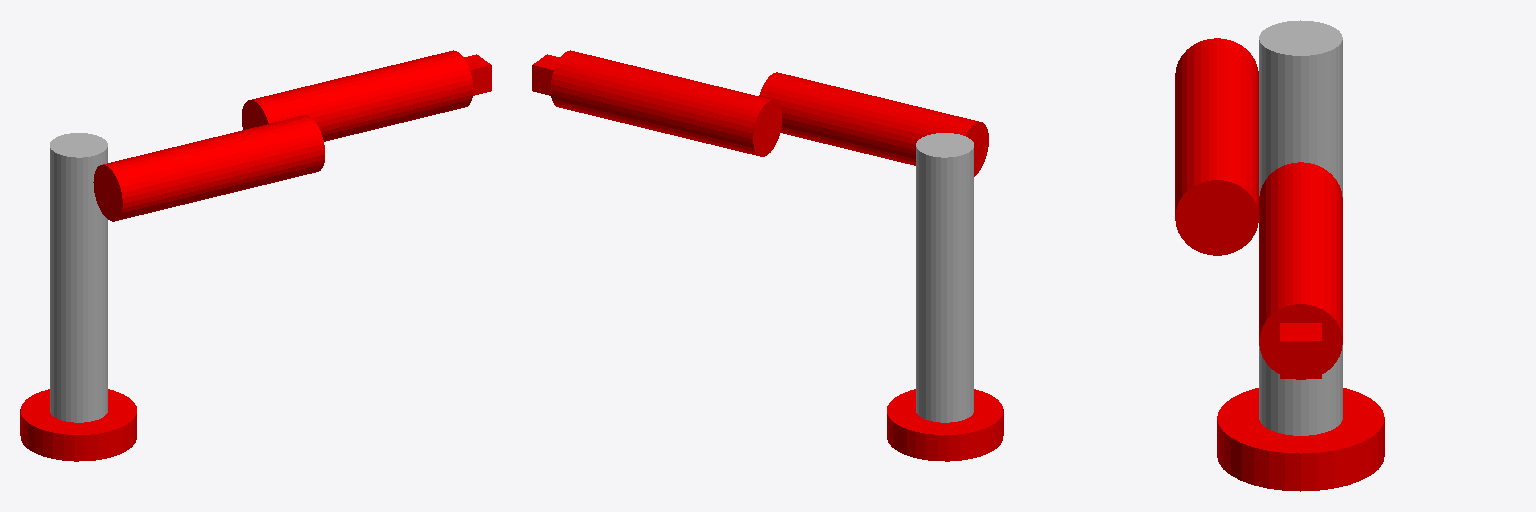
URDF robot description (bazu):
<?xml version="1.0" ?>
<robot name="bazu" xmlns:xacro="http://ros.org/wiki/xacro">
    <link name="world" />
    <link name="base_link">
        <inertial>
            <origin xyz="0.0 0.0 0.025" rpy="0.0 0.0 0.0" />
            <mass value="5.0" />
            <inertia ixx="0.0135" ixy="0.0" ixz="0.0" iyy="0.0135" iyz="0.0" izz="0.025" />
        </inertial>
        <visual>
            <origin xyz="0.0 0.0 0.025" rpy="0.0 0.0 0.0" />
            <geometry>
                <cylinder radius="0.1" length="0.05" />
            </geometry>
            <material name="">
                <color rgba="1.0 0.0 0.0 1.0" />
            </material>
        </visual>
        <collision>
            <origin xyz="0.0 0.0 0.025" rpy="0.0 0.0 0.0" />
            <geometry>
                <cylinder radius="0.1" length="0.05" />
            </geometry>
        </collision>
    </link>
    <joint name="joint_base" type="fixed">
        <origin xyz="0.0 0.0 0.0" rpy="0.0 0.0 0.0" />
        <parent link="world" />
        <child link="base_link" />
        <axis xyz="0.0 0.0 0.0" />
        <limit lower="0.0" upper="0.0" effort="0.0" velocity="0.0" />
    </joint>
    <link name="link_1">
        <inertial>
            <origin xyz="0.0 0.0 0.25" rpy="0.0 0.0 0.0" />
            <mass value="5.0" />
            <inertia ixx="0.1073" ixy="0.0" ixz="0.0" iyy="0.1073" iyz="0.0" izz="0.00625" />
        </inertial>
        <visual>
            <origin xyz="0.0 0.0 0.25" rpy="0.0 0.0 0.0" />
            <geometry>
                <cylinder radius="0.05" length="0.5" />
            </geometry>
            <material name="">
                <color rgba="0.75 0.75 0.75 1.0" />
            </material>
        </visual>
        <collision>
            <origin xyz="0.0 0.0 0.25" rpy="0.0 0.0 0.0" />
            <geometry>
                <cylinder radius="0.05" length="0.5" />
            </geometry>
        </collision>
    </link>
    <joint name="joint_1" type="continuous">
        <origin xyz="0.0 0.0 0.05" rpy="0.0 0.0 0.0" />
        <parent link="base_link" />
        <child link="link_1" />
        <axis xyz="0.0 0.0 1.0" />
    </joint>
    <link name="link_2">
        <inertial>
            <origin xyz="0.0 0.0 0.2" rpy="0.0 0.0 0.0" />
            <mass value="2.0" />
            <inertia ixx="0.0279" ixy="0.0" ixz="0.0" iyy="0.0279" iyz="0.0" izz="0.0025" />
        </inertial>
        <visual>
            <origin xyz="0.0 0.0 0.2" rpy="0.0 0.0 0.0" />
            <geometry>
                <cylinder radius="0.05" length="0.4" />
            </geometry>
            <material name="">
                <color rgba="1.0 0.0 0.0 1.0" />
                <texture filename="" />
            </material>
        </visual>
        <collision>
            <origin xyz="0.0 0.0 0.2" rpy="0.0 0.0 0.0" />
            <geometry>
                <cylinder radius="0.05" length="0.4" />
            </geometry>
        </collision>
    </link>
    <joint name="joint_2" type="continuous">
        <axis xyz="0 1 0" />
        <parent link="link_1" />
        <child link="link_2" />
        <origin rpy="0 1.5708 0" xyz="0.0 -0.1 0.45" />
    </joint>
    <link name="link_3">
        <inertial>
            <origin xyz="0.0 0.0 0.2" rpy="0.0 0.0 0.0" />
            <mass value="2.0" />
            <inertia ixx="0.0279" ixy="0.0" ixz="0.0" iyy="0.0279" iyz="0.0" izz="0.0025" />
        </inertial>
        <visual>
            <origin xyz="0.0 0.0 0.2" rpy="0.0 0.0 0.0" />
            <geometry>
                <cylinder radius="0.05" length="0.4" />
            </geometry>
            <material name="">
                <color rgba="1.0 0.0 0.0 1.0" />
                <texture filename="" />
            </material>
        </visual>
        <collision>
            <origin xyz="0.0 0.0 0.2" rpy="0.0 0.0 0.0" />
            <geometry>
                <cylinder radius="0.05" length="0.4" />
            </geometry>
        </collision>
    </link>
    <joint name="joint_3" type="continuous">
        <axis xyz="0 1 0" />
        <parent link="link_2" />
        <child link="link_3" />
        <origin rpy="0 0 0" xyz="0.0 0.1 0.35" />
    </joint>
    <link name="link_4">
        <inertial>
            <origin xyz="0.0 0.0 0.025" rpy="0.0 0.0 0.0" />
            <mass value="1.0" />
            <inertia ixx="0.00417" ixy="0.0" ixz="0.0" iyy="0.00417" iyz="0.0" izz="0.00417" />
        </inertial>
        <visual>
            <origin xyz="0.0 0.0 0.025" rpy="0.0 0.0 0.0" />
            <geometry>
                <box size="0.05 0.05 0.05" />
            </geometry>
            <material name="">
                <color rgba="1.0 0.0 0.0 1.0" />
                <texture filename="" />
            </material>
        </visual>
        <collision>
            <origin xyz="0.0 0.0 0.025" rpy="0.0 0.0 0.0" />
            <geometry>
                <box size="0.05 0.05 0.05" />
            </geometry>
        </collision>
    </link>
    <joint name="joint_4" type="continuous">
        <axis xyz="0 0 1" />
        <parent link="link_3" />
        <child link="link_4" />
        <origin rpy="0 0 0" xyz="0.0 0 0.4" />
    </joint>
    <transmission name="trans_1">
        <type>transmission_interface/SimpleTransmission</type>
        <joint name="joint_1">
            <hardwareInterface>hardware_interface/PositionJointInterface</hardwareInterface>
        </joint>
        <actuator name="motor_1">
            <hardwareInterface>hardware_interface/PositionJointInterface</hardwareInterface>
            <mechanicalReduction>1</mechanicalReduction>
        </actuator>
    </transmission>
    <transmission name="trans_2">
        <type>transmission_interface/SimpleTransmission</type>
        <joint name="joint_2">
            <hardwareInterface>hardware_interface/PositionJointInterface</hardwareInterface>
        </joint>
        <actuator name="motor_2">
            <hardwareInterface>hardware_interface/PositionJointInterface</hardwareInterface>
            <mechanicalReduction>1</mechanicalReduction>
        </actuator>
    </transmission>
    <transmission name="trans_3">
        <type>transmission_interface/SimpleTransmission</type>
        <joint name="joint_3">
            <hardwareInterface>hardware_interface/PositionJointInterface</hardwareInterface>
        </joint>
        <actuator name="motor_3">
            <hardwareInterface>hardware_interface/PositionJointInterface</hardwareInterface>
            <mechanicalReduction>1</mechanicalReduction>
        </actuator>
    </transmission>
    <transmission name="trans_4">
        <type>transmission_interface/SimpleTransmission</type>
        <joint name="joint_4">
            <hardwareInterface>hardware_interface/PositionJointInterface</hardwareInterface>
        </joint>
        <actuator name="motor_4">
            <hardwareInterface>hardware_interface/PositionJointInterface</hardwareInterface>
            <mechanicalReduction>1</mechanicalReduction>
        </actuator>
    </transmission>
    <gazebo>
        <plugin name="control" filename="libgazebo_ros_control.so" />
        <robotSimType>gazebo_ros_control/DefaultRobotHWSim</robotSimType>
        <legacyModeNS>true</legacyModeNS>
        <plugin name="gazebo_ros_control">
            <robotNamespace>/</robotNamespace>
        </plugin>
    </gazebo>
    <gazebo reference="base_link">
        <material>Gazebo/Blue</material>
    </gazebo>
    <gazebo reference="link_1">
        <material>Gazebo/Blue</material>
    </gazebo>
    <gazebo reference="link_2">
        <material>Gazebo/Yellow</material>
    </gazebo>
    <gazebo reference="link_3">
        <material>Gazebo/Yellow</material>
    </gazebo>
    <gazebo reference="link_4">
        <material>Gazebo/Blue</material>
    </gazebo>
</robot>

--- Facts derived from the render (not from the file) ---
The picture shows the robot from 3 angles, left to right: view 1: azimuth 30°, elevation 25°; view 2: azimuth 150°, elevation 25°; view 3: azimuth 270°, elevation 25°; orthographic projection.
Model bazu with 6 links and 5 joints (4 continuous, 1 fixed), rooted at world, posed every joint at zero.
Visible links, largest first — view 1: link_1, link_2, link_3, base_link, link_4; view 2: link_1, link_3, link_2, base_link, link_4; view 3: link_1, link_2, link_3, base_link, link_4.
Boxes of the visible links, x1,y1,x2,y2 form: link_1: (50,133,107,422); link_2: (93,115,324,221); link_3: (242,50,472,141); base_link: (20,389,136,461); link_4: (464,54,491,95); link_1: (916,133,973,422); link_3: (551,50,781,156); link_2: (759,72,988,176); base_link: (887,389,1003,461); link_4: (532,54,559,95); link_1: (1259,20,1342,435); link_2: (1175,38,1258,255); link_3: (1259,162,1342,379); base_link: (1217,388,1384,491); link_4: (1280,323,1321,378).
Bounding box of the posed robot: 0.9 × 0.25 × 0.55 m (x, y, z).
Geometry: primitives only (box / cylinder / sphere), no mesh files.